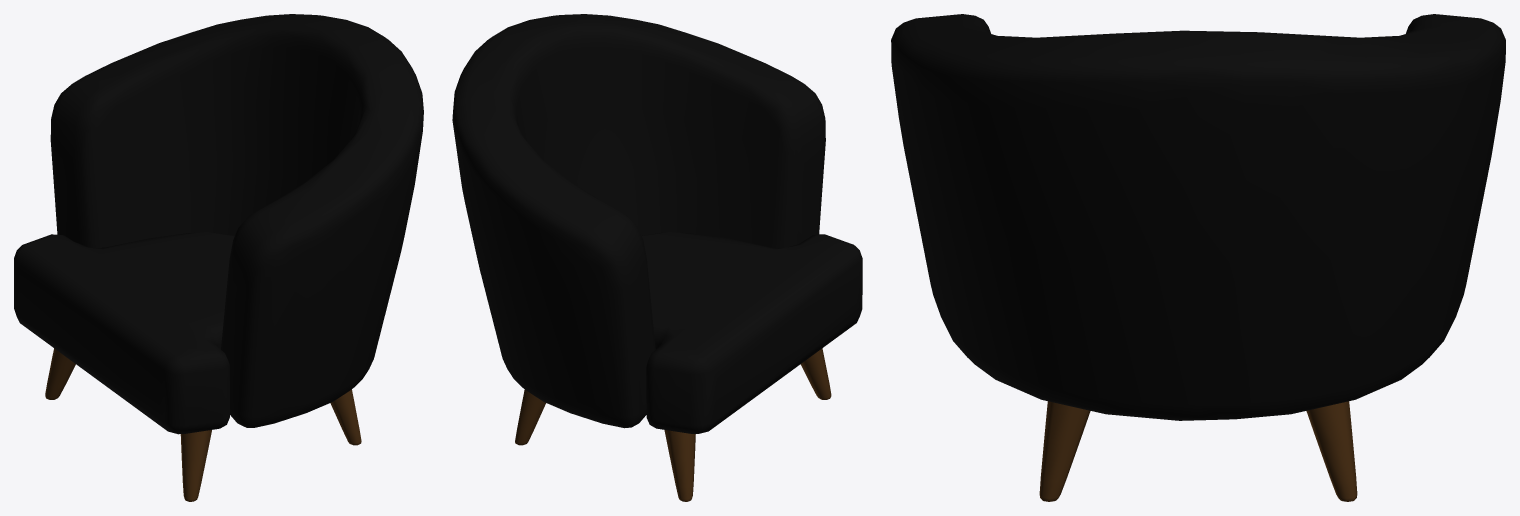
File: armchair_07_leather_black.fbx
3 views of the same model, side by side, from view 1: azimuth 30°, elevation 25°; view 2: azimuth 150°, elevation 25°; view 3: azimuth 270°, elevation 25° (orthographic). The views are drawn at different scales.
Visible parts, largest first — view 1: armchair_07_leather_black; view 2: armchair_07_leather_black; view 3: armchair_07_leather_black.
Part boxes in pixels (left/top/right/bottom): armchair_07_leather_black: left=14, top=14, right=423, bottom=501; armchair_07_leather_black: left=452, top=14, right=862, bottom=501; armchair_07_leather_black: left=891, top=14, right=1505, bottom=501.
Bounding box in the file's own units: 102 × 114 × 128.
Materials: 1 (1 with a texture image).
